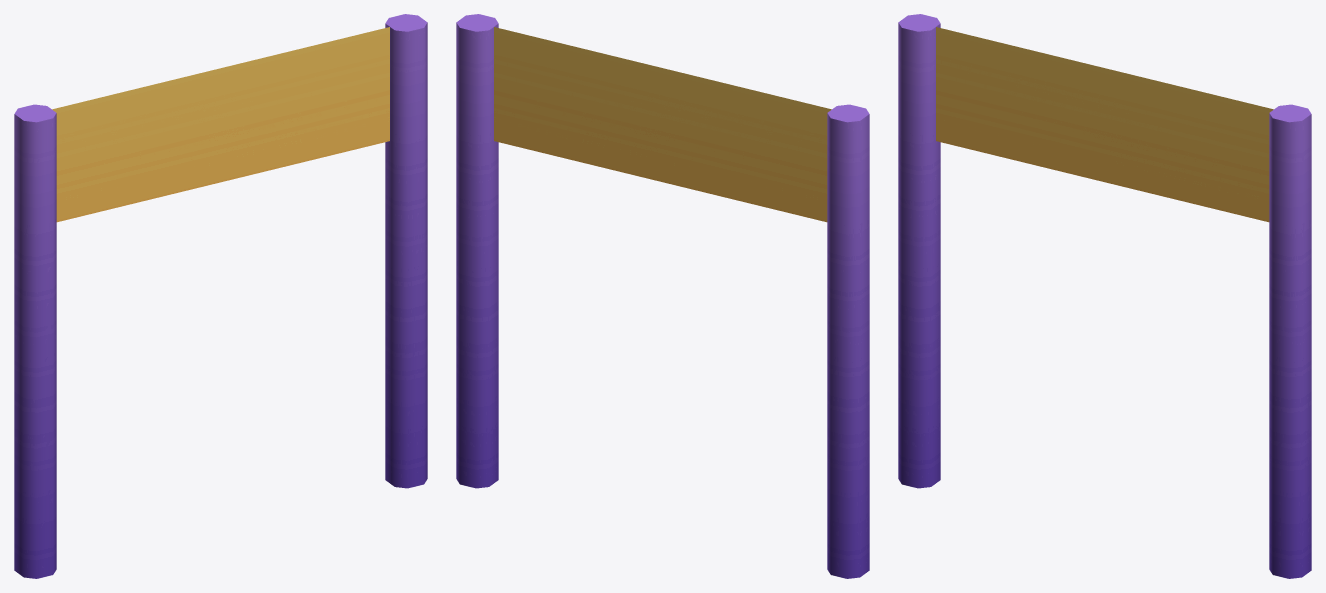
The model's file is banner-high-col.glb.
3 views of the same model, side by side, from view 1: azimuth 30°, elevation 25°; view 2: azimuth 150°, elevation 25°; view 3: azimuth 330°, elevation 25° (orthographic).
Visible parts, largest first — view 1: banner-high-col; view 2: banner-high-col; view 3: banner-high-col.
Boxes of the visible parts, x1,y1,x2,y2 form: banner-high-col: (14, 14, 427, 578); banner-high-col: (456, 14, 869, 578); banner-high-col: (898, 14, 1311, 578).
Size of the model in its own units: 0.925 by 1 by 0.075.
Materials: 1 (1 with a texture image).
